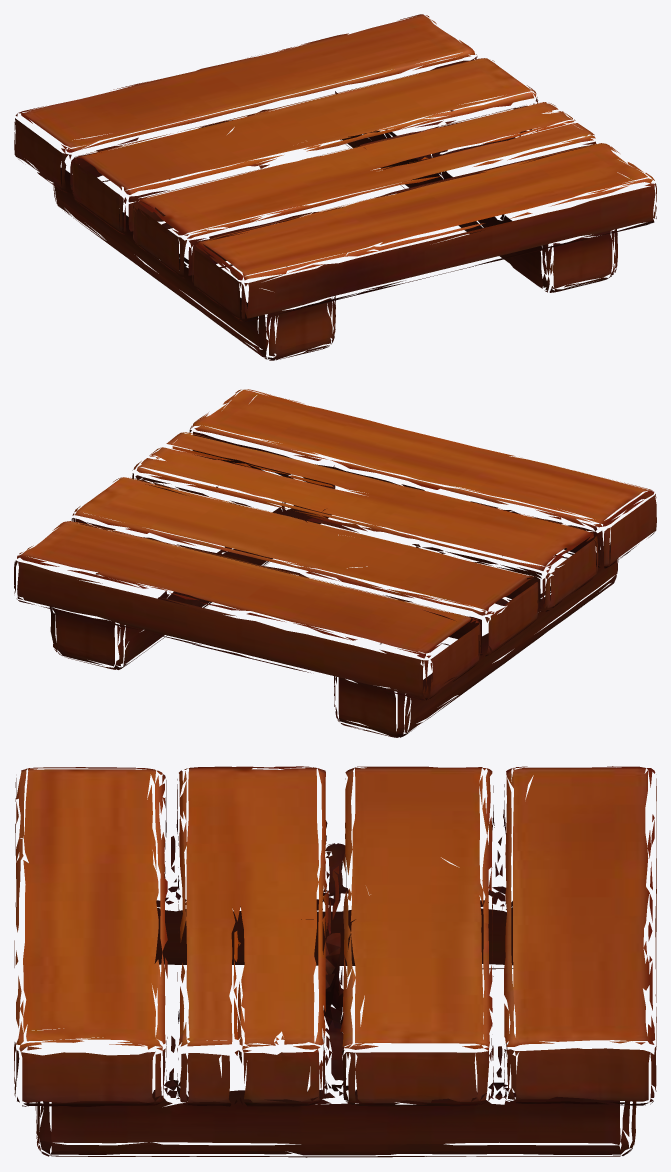
File: wood_path.glb
3 views of the same model, one above another, from view 1: azimuth 30°, elevation 25°; view 2: azimuth 150°, elevation 25°; view 3: azimuth 270°, elevation 25° (orthographic). The views are drawn at different scales.
Parts seen in each view (by area): view 1: world; view 2: world; view 3: world.
Boxes of the visible parts, box(x1,y1,x2,y2) form: world: box(14, 14, 656, 360); world: box(14, 389, 656, 737); world: box(14, 766, 656, 1157).
Size of the model in its own units: 0.9958 by 0.2287 by 0.9526.
Materials: 1 (1 with a texture image).
